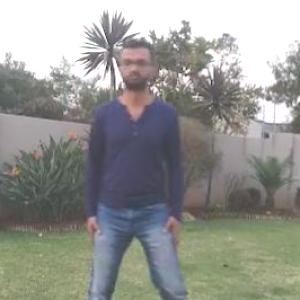follow: (75, 11, 195, 299)
